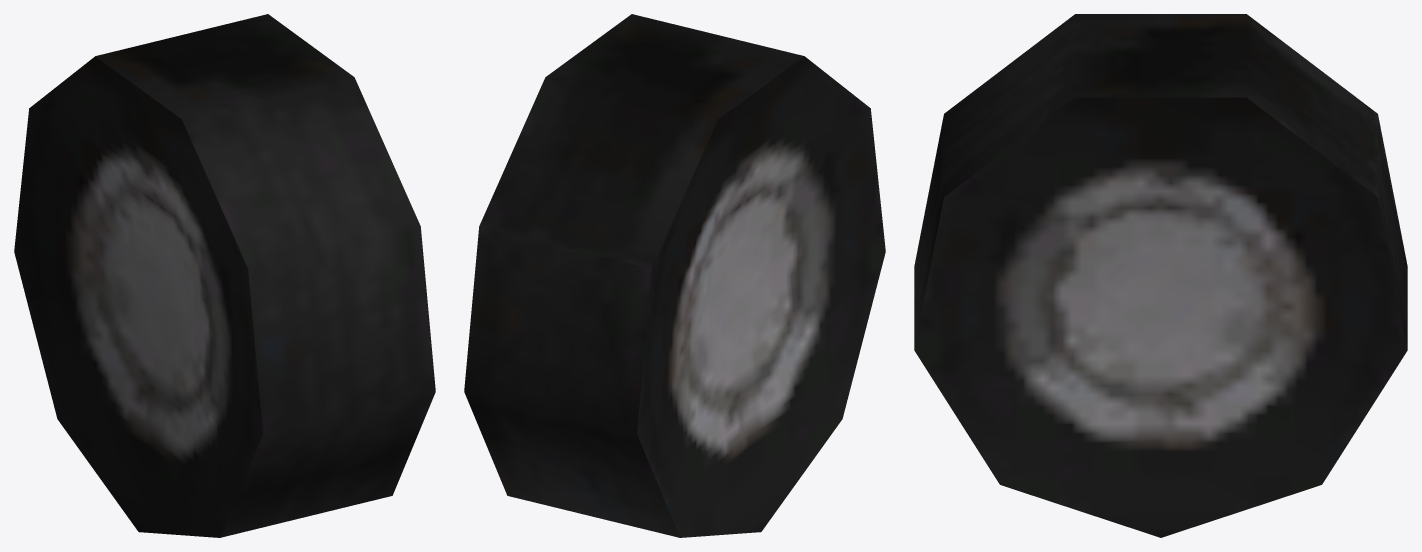
File: multitool_trolley_ark_room_wheel1.DAE
3 renders of one model, left to right at view 1: azimuth 30°, elevation 25°; view 2: azimuth 150°, elevation 25°; view 3: azimuth 270°, elevation 25°, orthographic.
Parts seen in each view (by area): view 1: multitool_trolley_ark_room_wheel1; view 2: multitool_trolley_ark_room_wheel1; view 3: multitool_trolley_ark_room_wheel1.
Boxes of the visible parts, box(x1,y1,x2,y2) form: multitool_trolley_ark_room_wheel1: box(14, 14, 435, 537); multitool_trolley_ark_room_wheel1: box(464, 14, 885, 537); multitool_trolley_ark_room_wheel1: box(914, 14, 1407, 537).
Size of the model in its own units: 0.0752 by 0.1848 by 0.1876.
